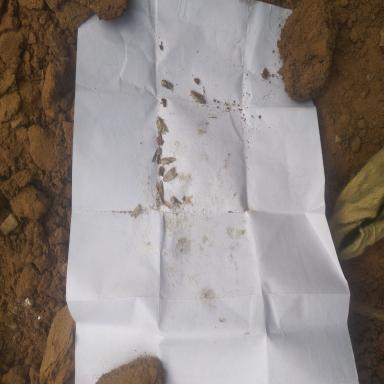pbw: (156, 116, 168, 137), (163, 166, 178, 182), (190, 90, 203, 104), (152, 146, 162, 164), (154, 186, 163, 205), (170, 196, 182, 209), (130, 204, 140, 219), (159, 157, 176, 165), (161, 80, 173, 90), (162, 199, 172, 208), (159, 179, 163, 200)
